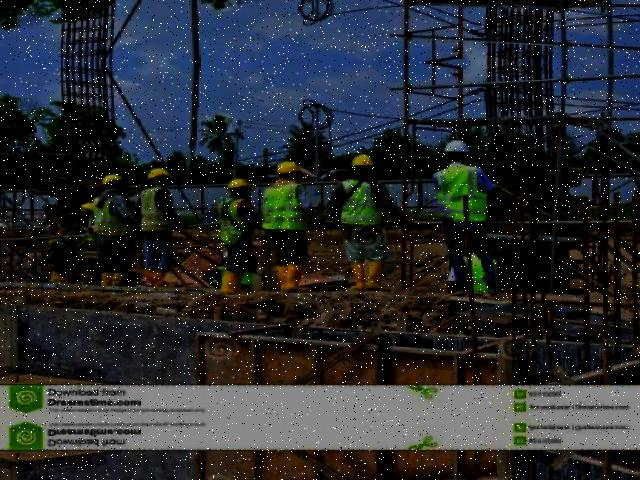Helmet: (266, 157, 308, 179), (435, 137, 475, 160), (138, 162, 172, 188), (342, 150, 377, 171), (93, 168, 126, 190), (220, 175, 258, 194)
